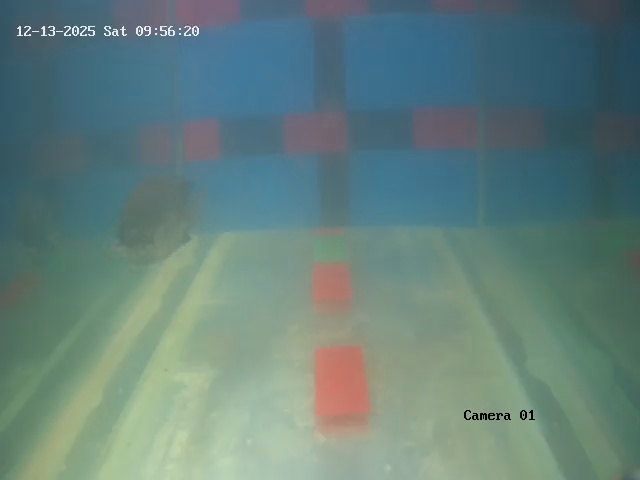fish: (91, 167, 210, 273)
